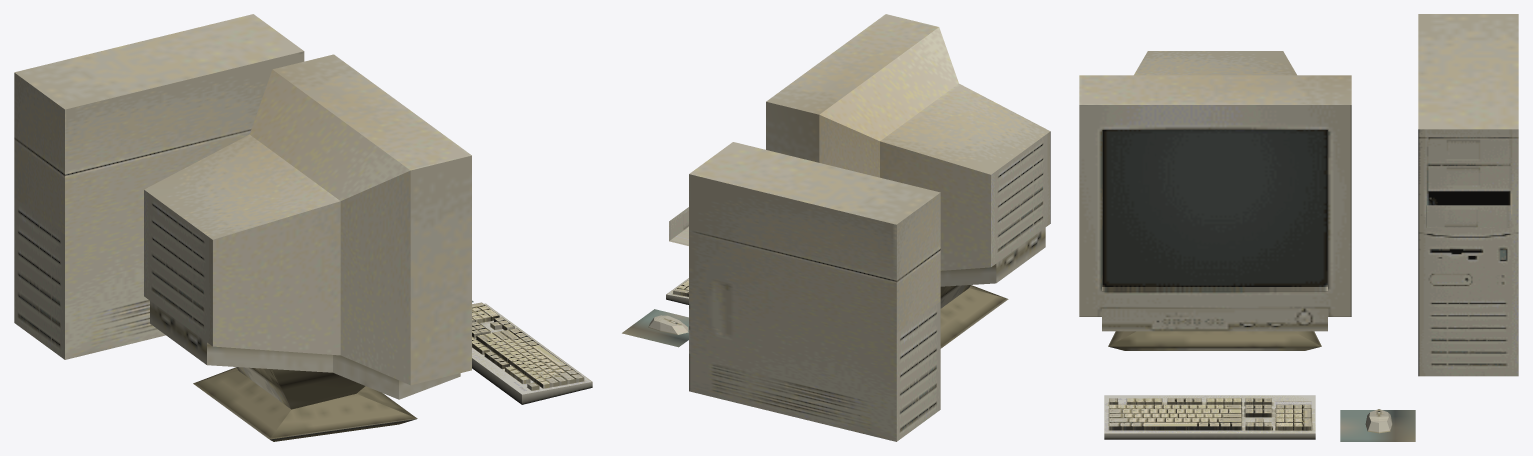
3 views of the same model, side by side, from view 1: azimuth 30°, elevation 25°; view 2: azimuth 150°, elevation 25°; view 3: azimuth 270°, elevation 25° (orthographic). The views are drawn at different scales.
Parts seen in each view (by area): view 1: monitor_1, tower_0, keyboard_3; view 2: tower_0, monitor_1, mouse_2; view 3: monitor_1, tower_0, keyboard_3, mouse_2.
Boxes of the visible parts, x1,y1,x2,y2 form: monitor_1: [144, 54, 471, 441]; tower_0: [14, 14, 304, 359]; keyboard_3: [472, 302, 592, 404]; tower_0: [669, 142, 940, 441]; monitor_1: [766, 14, 1050, 348]; mouse_2: [622, 309, 688, 347]; monitor_1: [1079, 51, 1351, 350]; tower_0: [1418, 14, 1518, 376]; keyboard_3: [1104, 395, 1315, 439]; mouse_2: [1340, 409, 1415, 441].
Bounding box in the file's own units: 3.09 × 2.21 × 3.22.
Materials: 1 (1 with a texture image).
